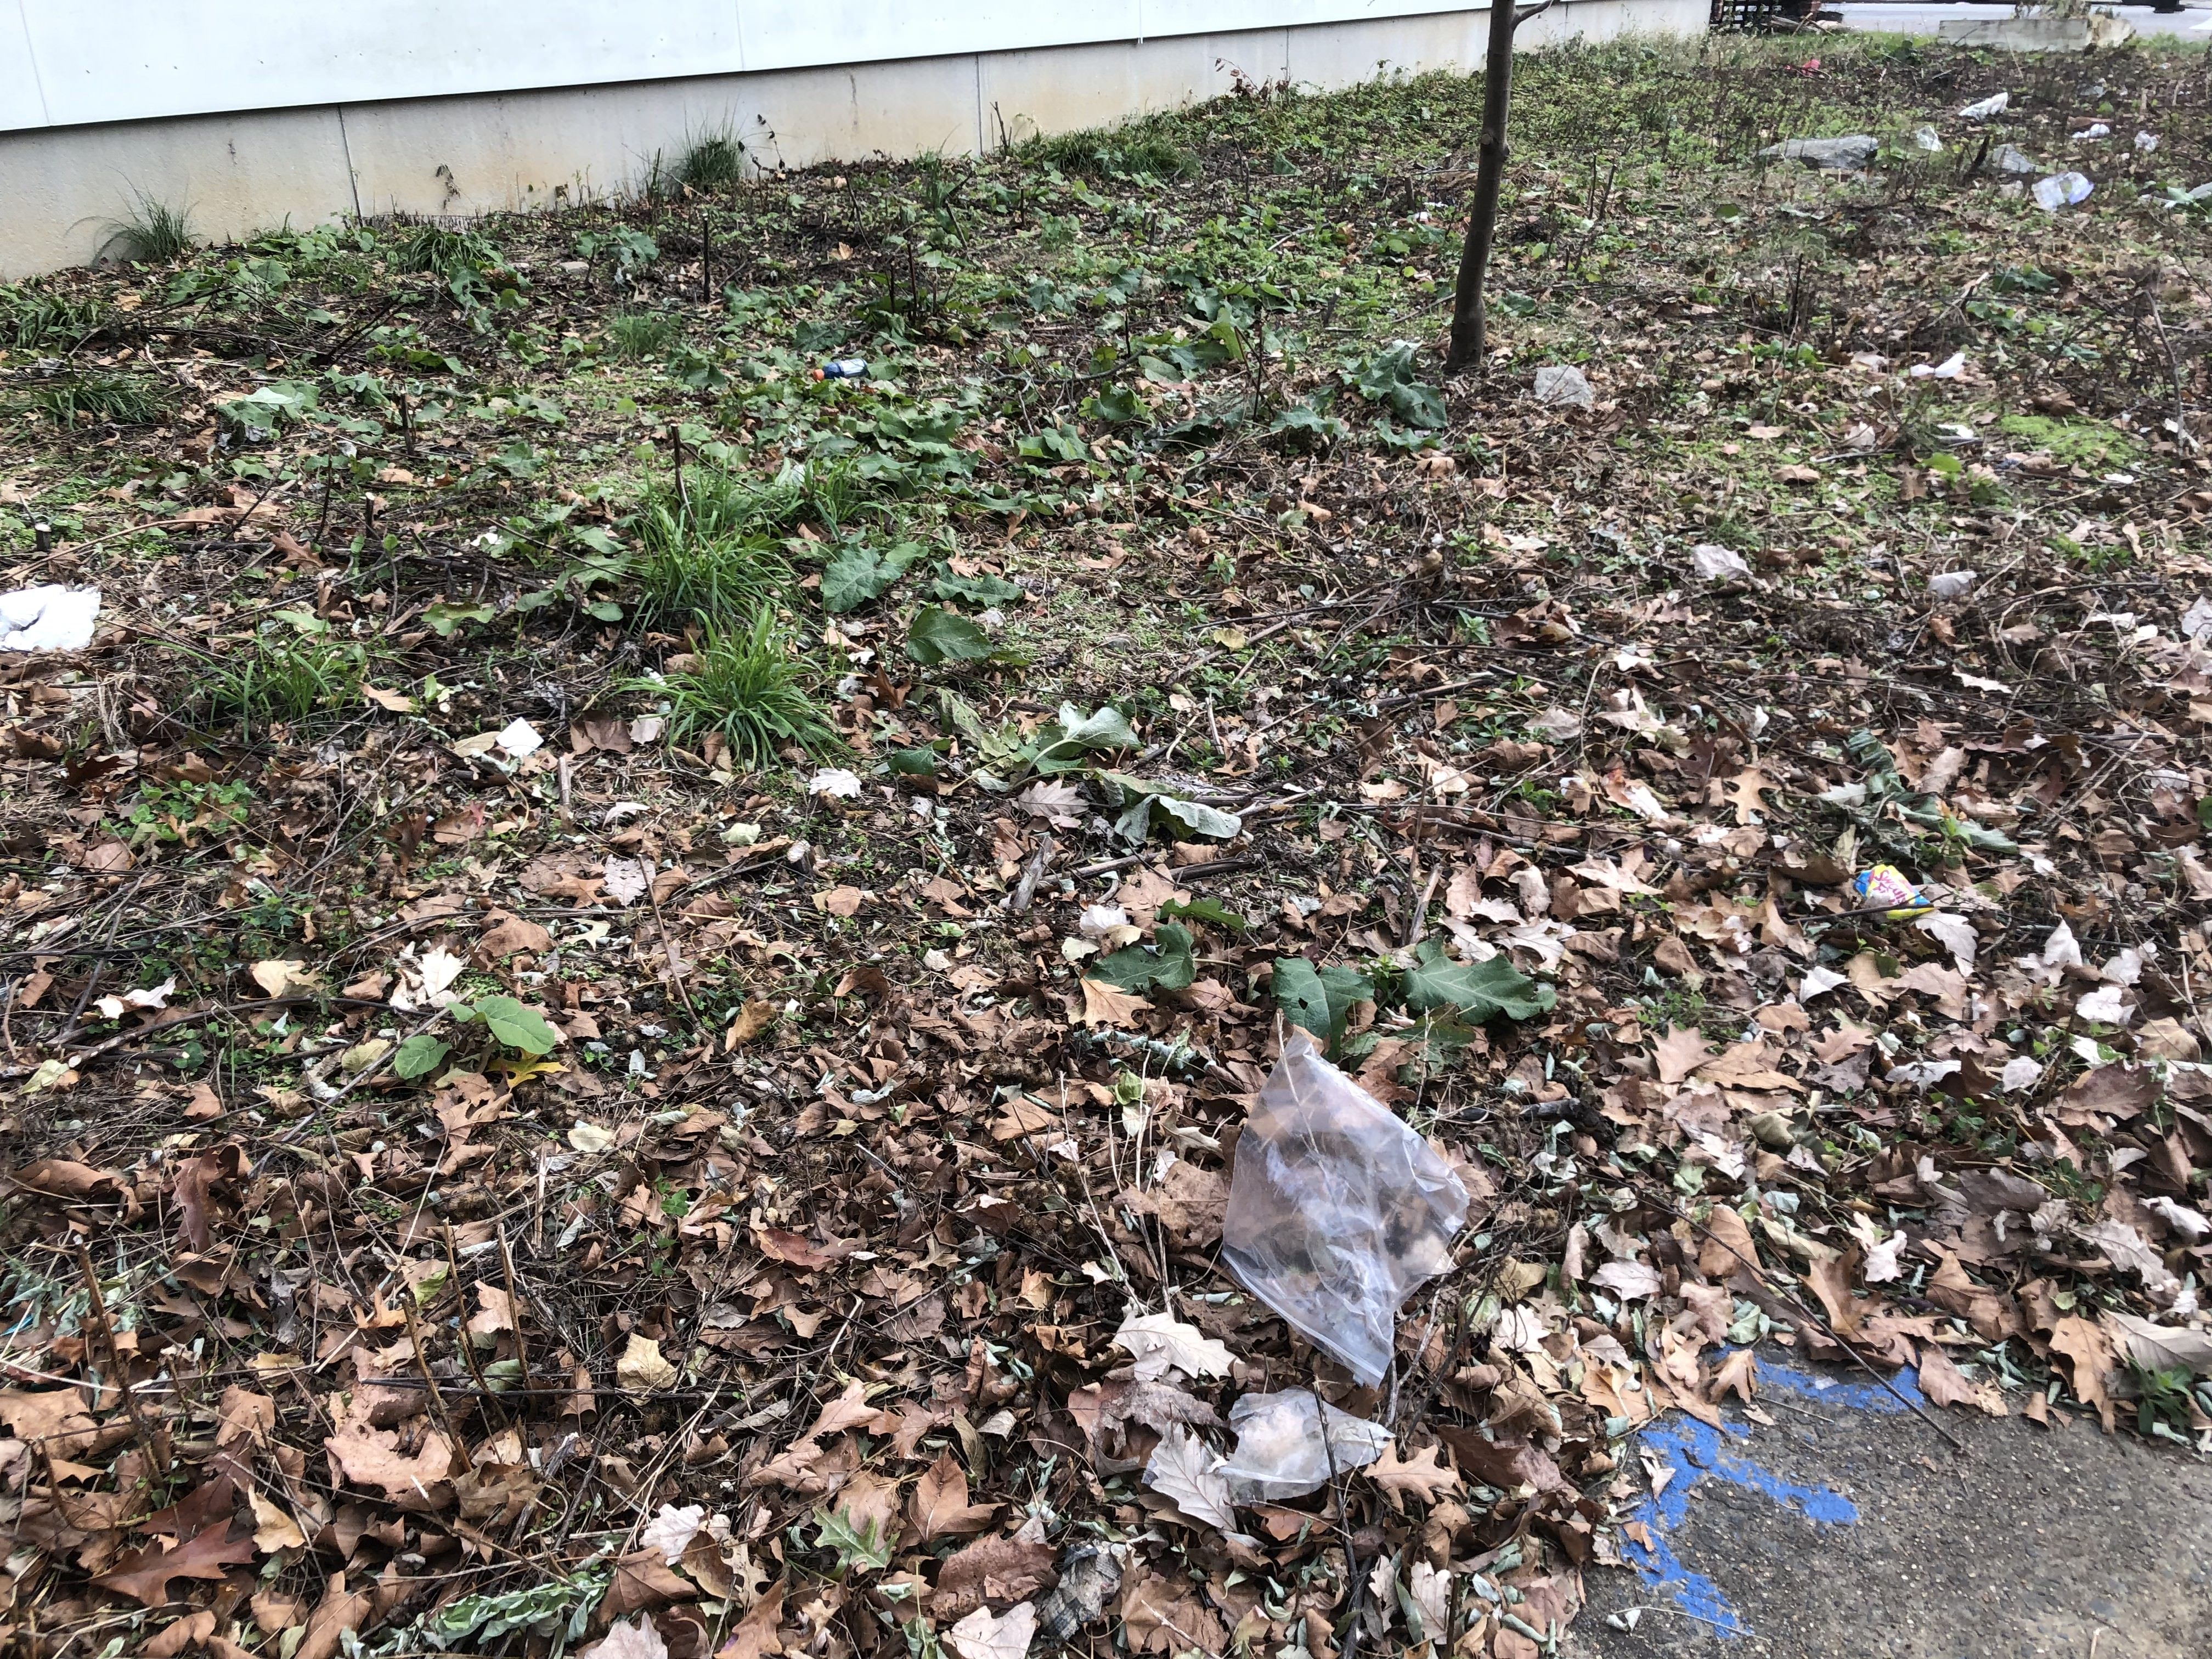rough_lawn: (0, 458, 1738, 1560)
trash: (1083, 1016, 1575, 1401), (1115, 1351, 1465, 1565), (0, 551, 165, 690)
